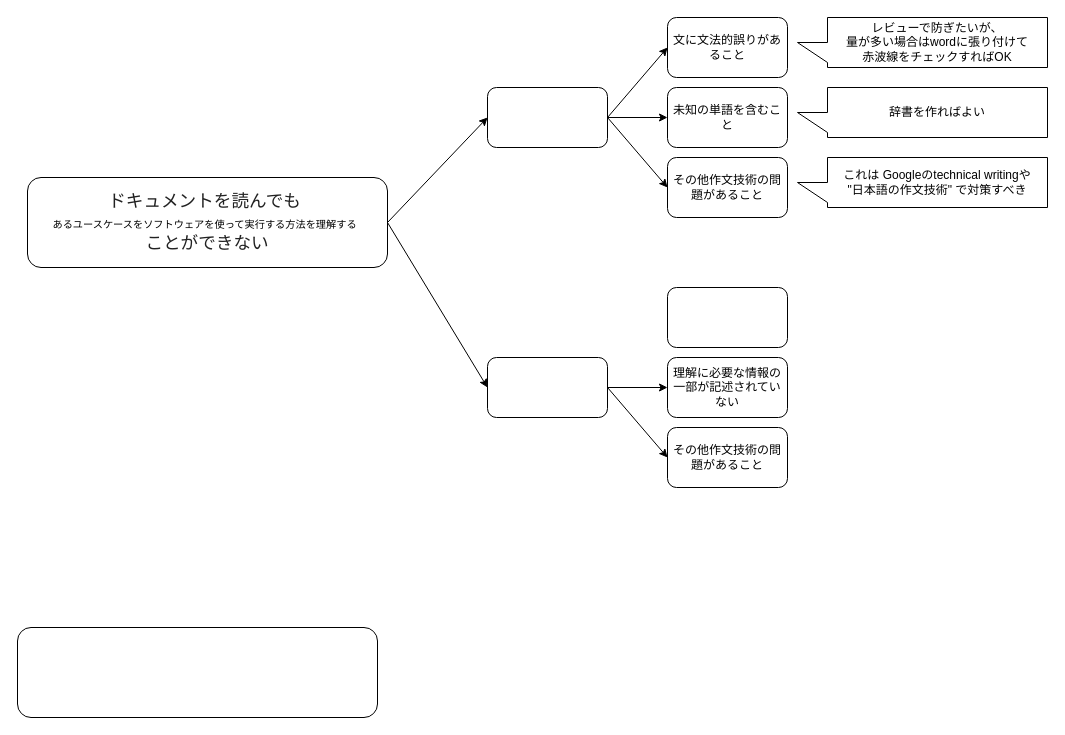
This 1065x735 diagram has some shape labels left out. Here are the shapes that lost their labels. From the top down, the centre of each, then its label:
At (x=547, y=117): "ある一つの文が理解できない".
At (x=727, y=317): "ドキュメントの構造が".
At (x=547, y=387): "一定の文のまとまり(文章)が理解できない".
At (x=197, y=672): "ドキュメントを読めば あるユースケースをソフトウェアを使って実行する方法を理解する ことができるが、時間がかかる".
